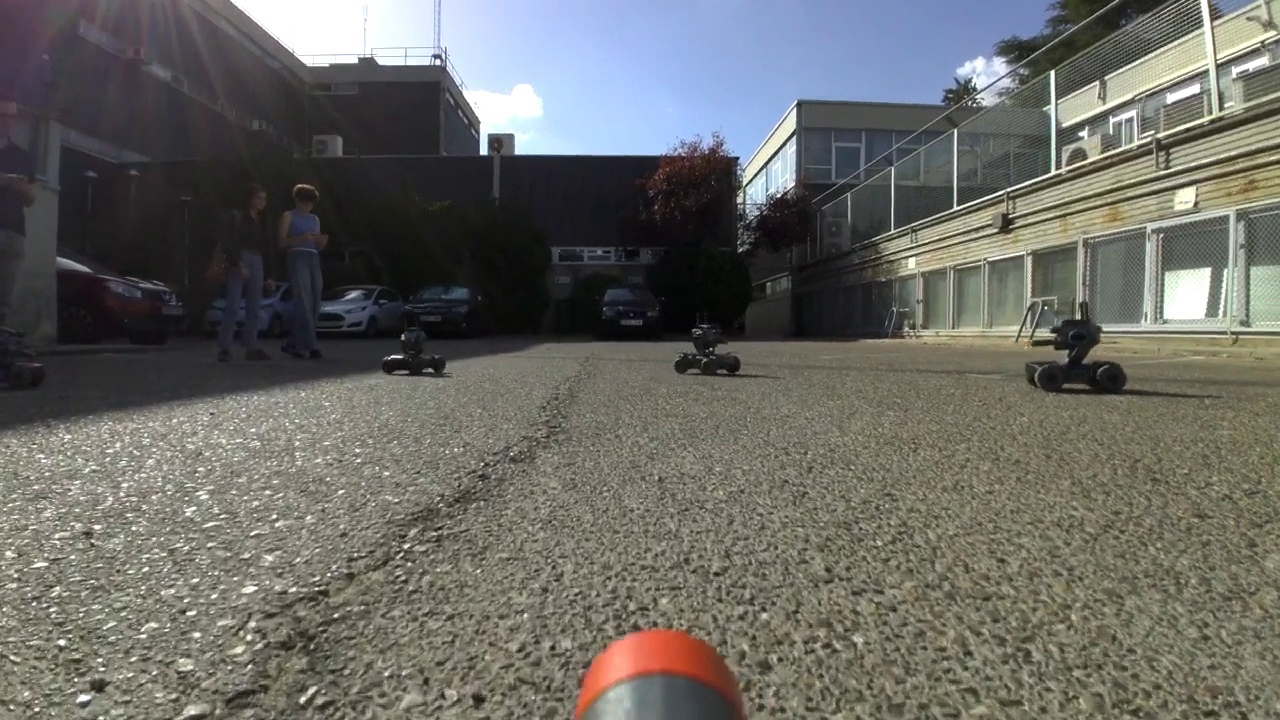robot: (1024, 297, 1129, 389), (676, 308, 744, 377), (379, 312, 447, 377), (2, 321, 45, 389)
